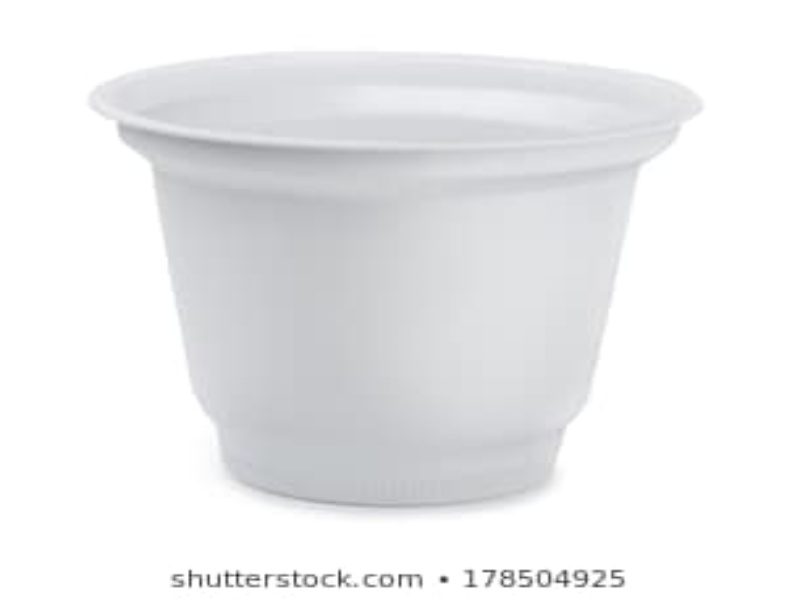plastic-cup: (80, 48, 707, 515)
